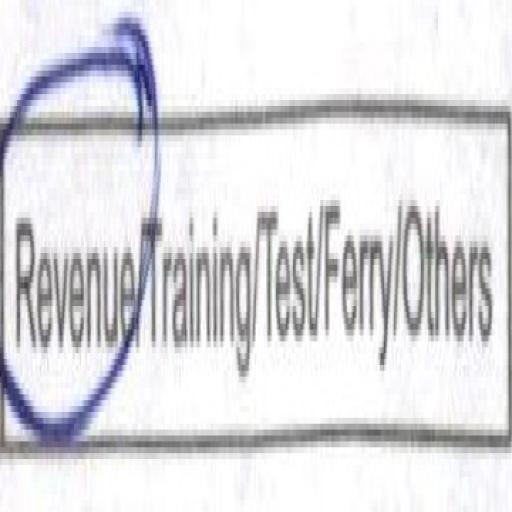check: (0, 0, 141, 500)
